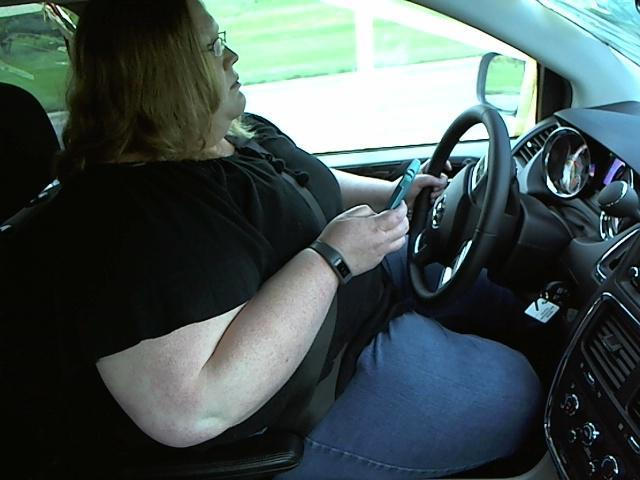PhoneUse: (380, 154, 420, 219)
